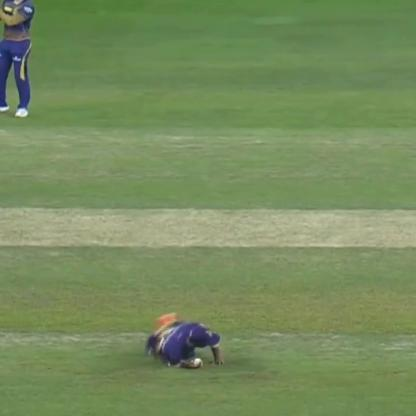ball: (189, 351, 205, 367)
